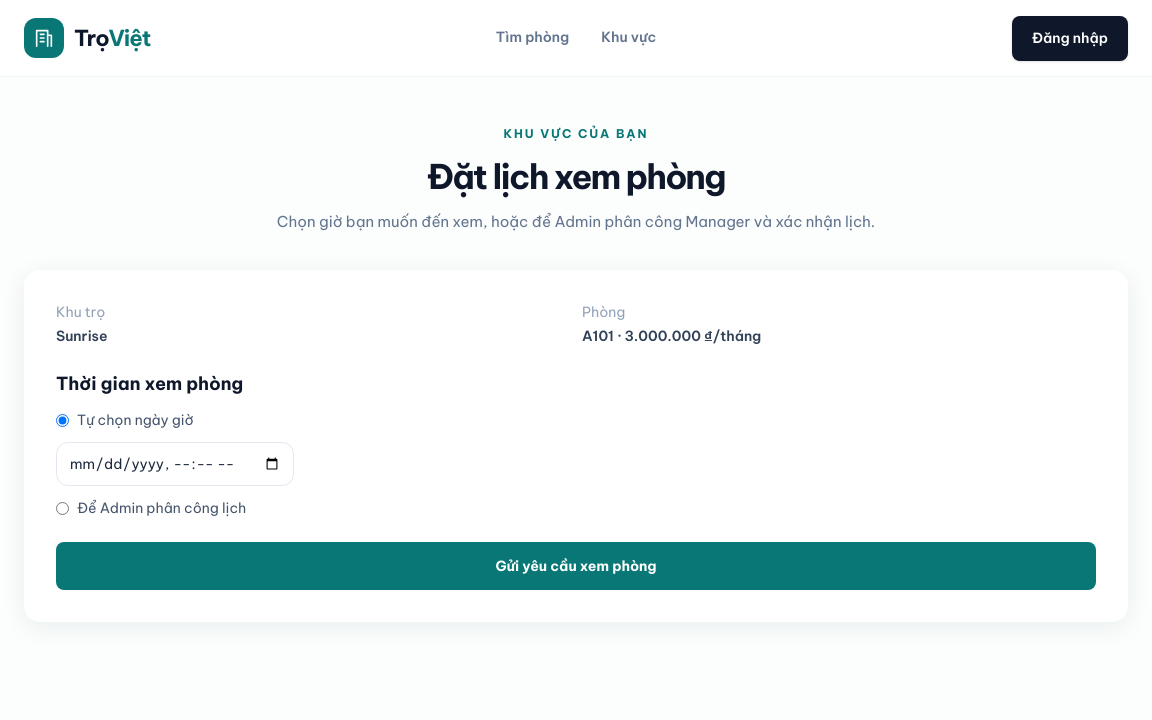
it: ViewingRequestPage › requires a future time and sends the chosen local time as UTC
Expected: the text "A101 · 3.000.000 ₫/tháng" is shown, [582,327,761,345]
Step 1. Click the button "Gửi yêu cầu xem phòng" → (576, 566), box [56,542,1096,590]
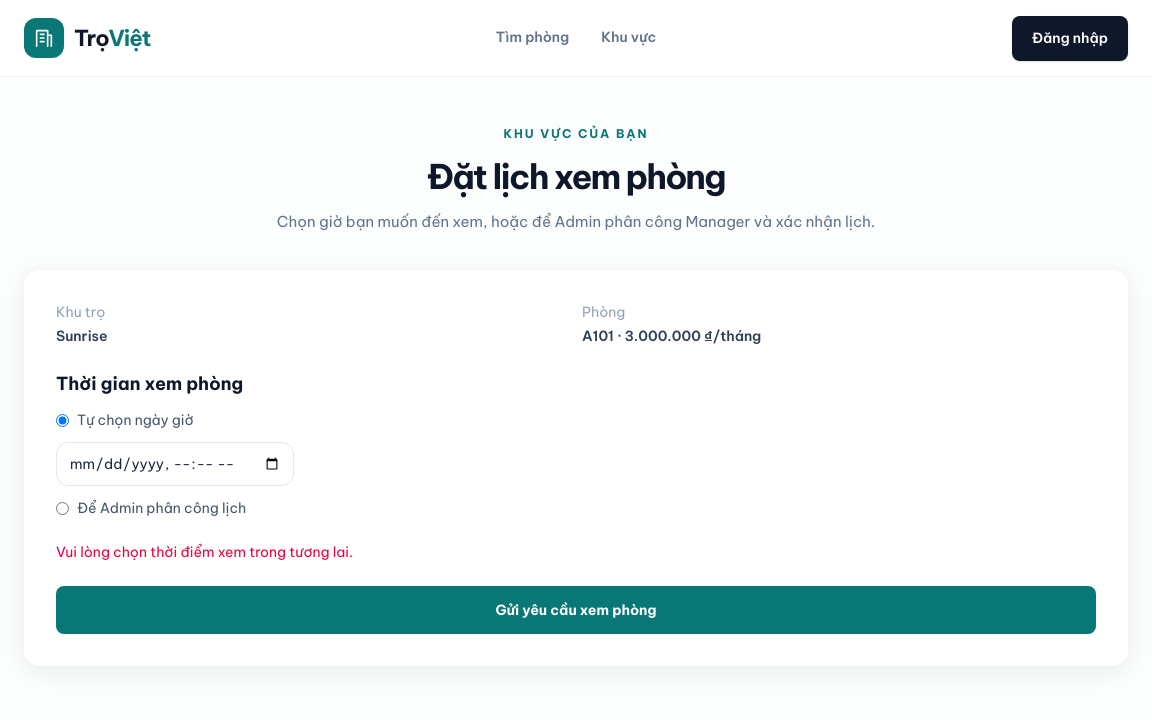
Now the message reads "Vui lòng chọn thời điểm xem trong tương lai.", box [56,543,353,561]
Step 2. Type "2099-05-20T09:30" into the field named "Ngày giờ xem phòng" → (175, 464), box [56,442,294,486]
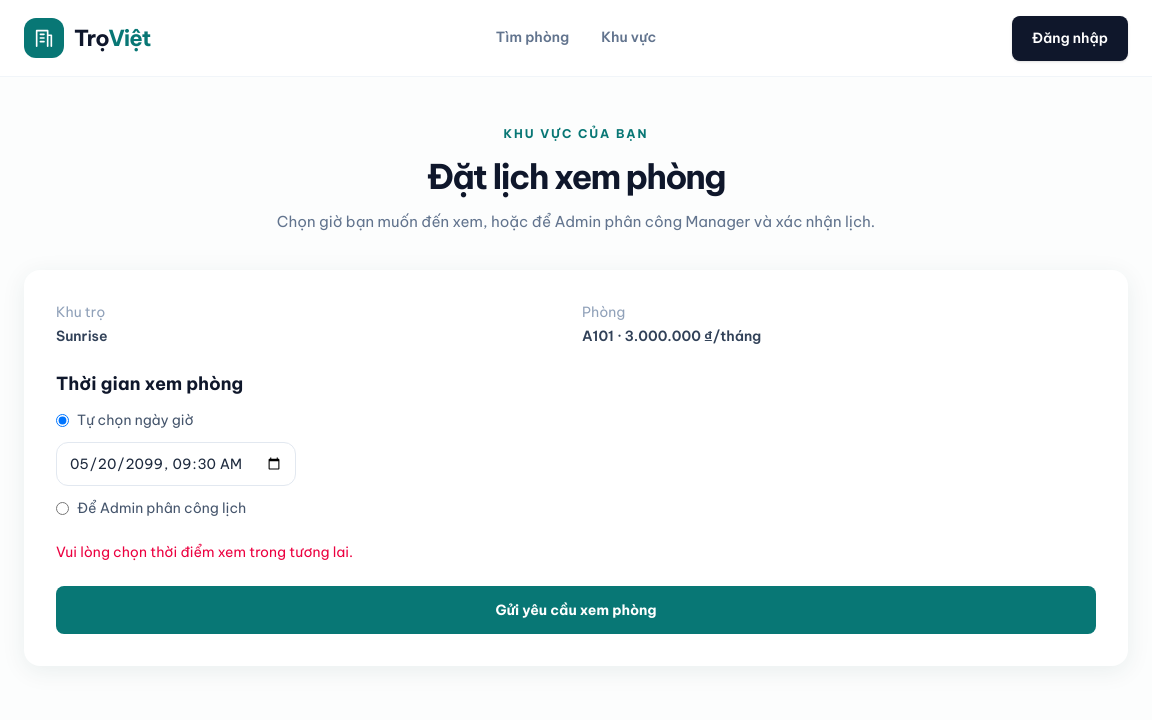
Step 3. Click the button "Gửi yêu cầu xem phòng" → (576, 610), box [56,586,1096,634]
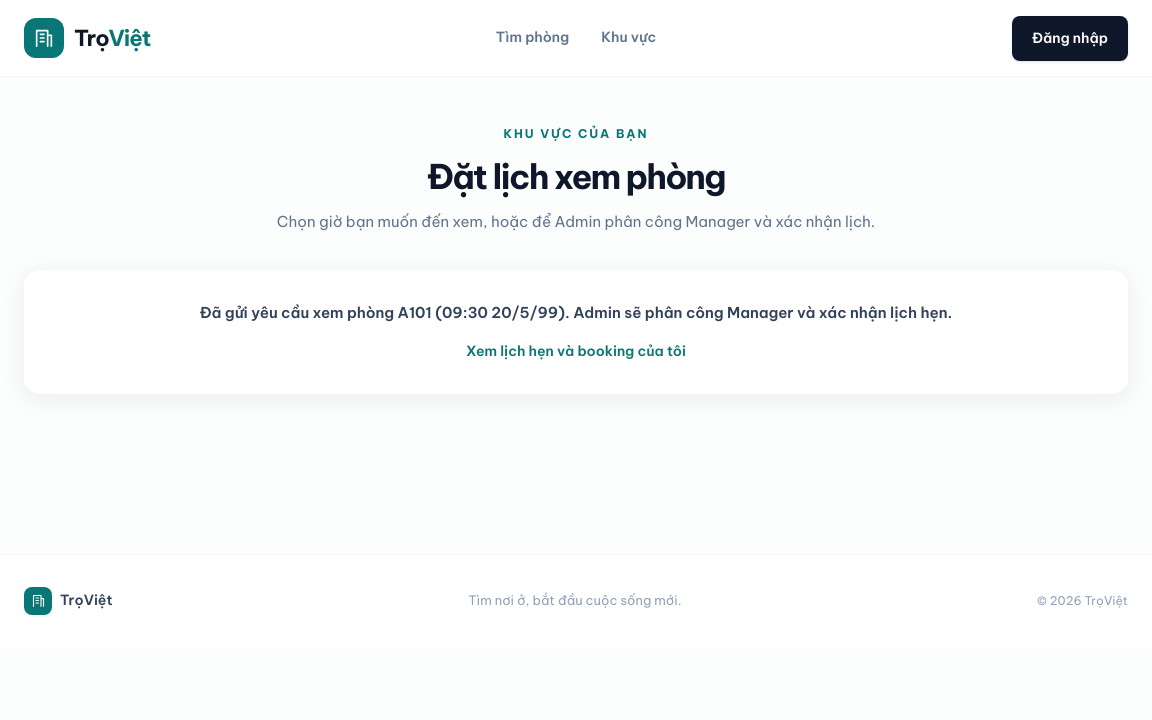
Now the text "Đã gửi yêu cầu xem phòng A101" is shown, box [200,303,952,322]
